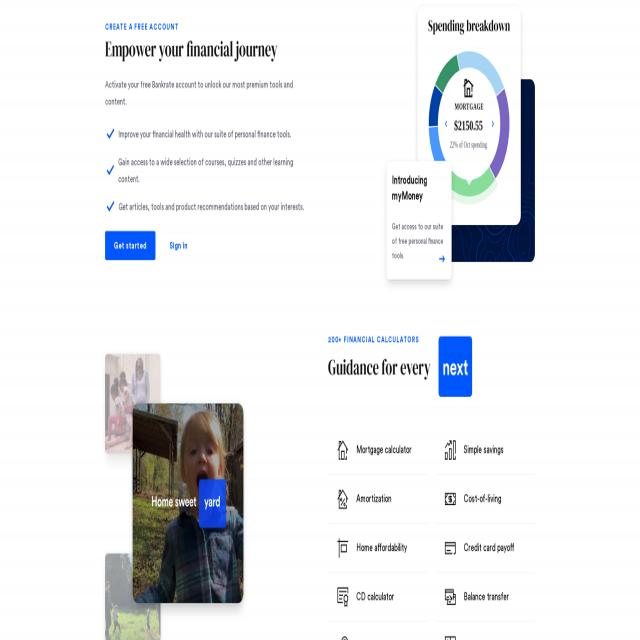button: (132, 404, 244, 604), (417, 13, 520, 225), (386, 160, 451, 282), (331, 525, 432, 573), (434, 429, 537, 475), (435, 478, 538, 524), (329, 475, 430, 521), (331, 575, 432, 620), (435, 574, 540, 617), (330, 428, 429, 473), (435, 527, 538, 570), (438, 336, 472, 397), (435, 623, 541, 640), (330, 623, 432, 640), (105, 231, 155, 260), (161, 231, 196, 260)
field: (105, 124, 116, 144), (105, 197, 116, 217), (105, 160, 115, 180)
